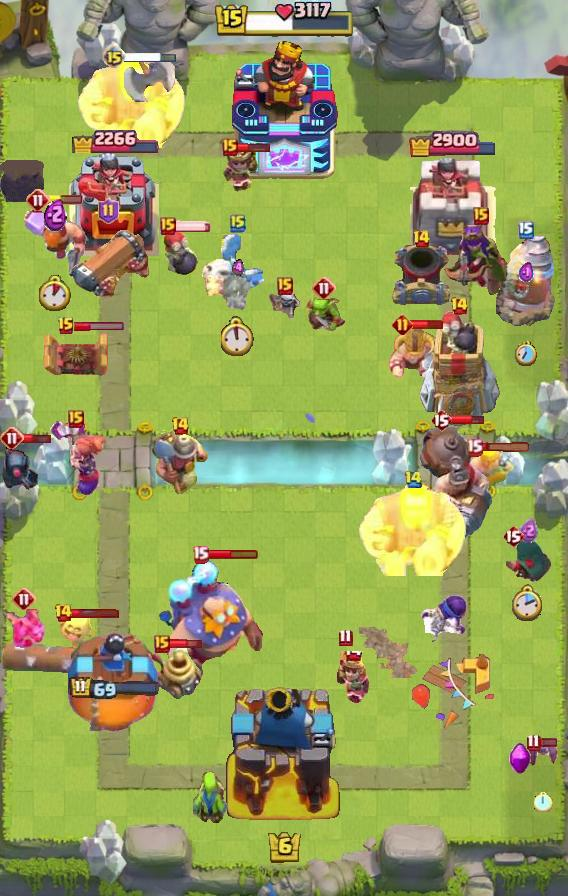axe: (122, 38, 176, 102)
bandit: (504, 536, 552, 582)
bar: (124, 51, 178, 64), (206, 548, 259, 560), (480, 442, 532, 453), (74, 321, 125, 332), (70, 608, 120, 619), (449, 413, 485, 426), (174, 220, 212, 232), (168, 637, 203, 650), (17, 432, 52, 445), (236, 142, 271, 153), (410, 319, 444, 330), (47, 195, 83, 205), (539, 737, 558, 748)
bar-level: (12, 587, 36, 611), (0, 426, 24, 450), (312, 276, 336, 300), (26, 188, 50, 212), (102, 45, 126, 69), (98, 198, 119, 224), (502, 524, 524, 548), (430, 408, 452, 432), (392, 314, 413, 335), (54, 603, 73, 623), (171, 416, 190, 436), (450, 296, 469, 316), (412, 229, 431, 249), (404, 470, 423, 489), (57, 316, 75, 336), (192, 545, 209, 564), (466, 438, 483, 457), (230, 213, 246, 233), (154, 635, 170, 653), (68, 410, 84, 428), (277, 277, 293, 295), (518, 221, 534, 239), (160, 217, 176, 235), (473, 207, 489, 225), (222, 138, 238, 156), (526, 733, 541, 752), (338, 628, 353, 647)
barbarian: (461, 447, 515, 495)
bat: (526, 741, 560, 769)
bomb: (0, 160, 44, 202)
bomber: (161, 229, 201, 277)
bomber-evolution: (418, 593, 470, 647)
clock: (221, 316, 255, 356), (512, 584, 544, 623), (39, 275, 71, 311), (515, 341, 537, 366), (534, 791, 553, 812)
dirt: (359, 627, 423, 678)
elite-barbarian: (389, 327, 445, 381)
elixir: (44, 196, 67, 231), (519, 518, 538, 543), (519, 262, 534, 284), (232, 259, 244, 277)
evolution-symbol: (508, 742, 531, 776)
goblin: (193, 770, 231, 828), (302, 291, 346, 333)
heal-spirit: (56, 610, 98, 648)
king-tower: (223, 680, 345, 826), (230, 41, 338, 181)
king-tower-bar: (213, 0, 355, 40)
little-prince: (320, 651, 371, 707), (219, 143, 263, 195)
lumberjack: (23, 203, 87, 273)
miner: (149, 427, 211, 501)
mini-pekka: (0, 441, 42, 495)
minion: (1, 605, 47, 651)
mortar: (390, 241, 452, 309)
queen-tower: (69, 152, 159, 256), (68, 633, 160, 731), (410, 156, 496, 256)
skeleton: (269, 289, 301, 321)
tesla: (42, 330, 112, 380)
the-log: (0, 639, 100, 677)
tower-bar: (69, 123, 159, 153), (408, 129, 498, 157), (69, 676, 160, 701)
valkyrie-evolution: (48, 419, 105, 498)
zappy: (143, 646, 205, 702)
